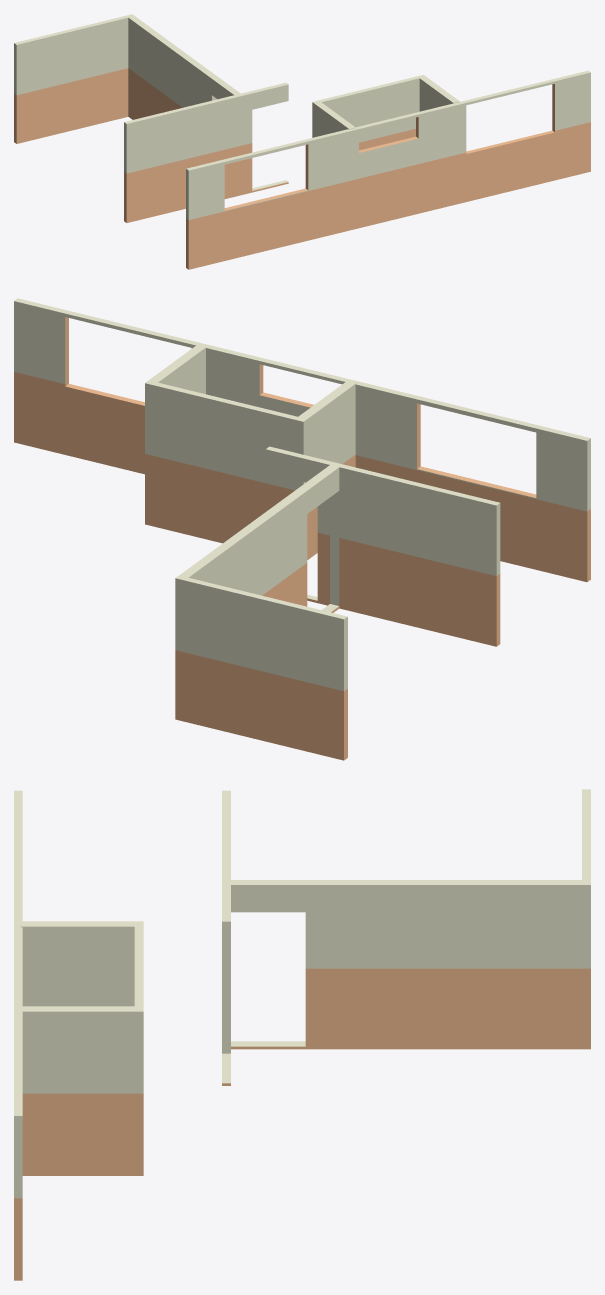
Rendered from paredS1.glb.
The picture shows the model from 3 angles, top to bottom: view 1: azimuth 30°, elevation 25°; view 2: azimuth 150°, elevation 25°; view 3: azimuth 270°, elevation 25°; orthographic projection. The views are drawn at different scales.
Visible parts, largest first — view 1: Room.018; view 2: Room.018; view 3: Room.018.
Boxes of the visible parts, x1,y1,x2,y2 form: Room.018: [14, 14, 590, 269]; Room.018: [14, 298, 590, 760]; Room.018: [14, 789, 590, 1280].
Size of the model in its own units: 205 by 48.54 by 154.
